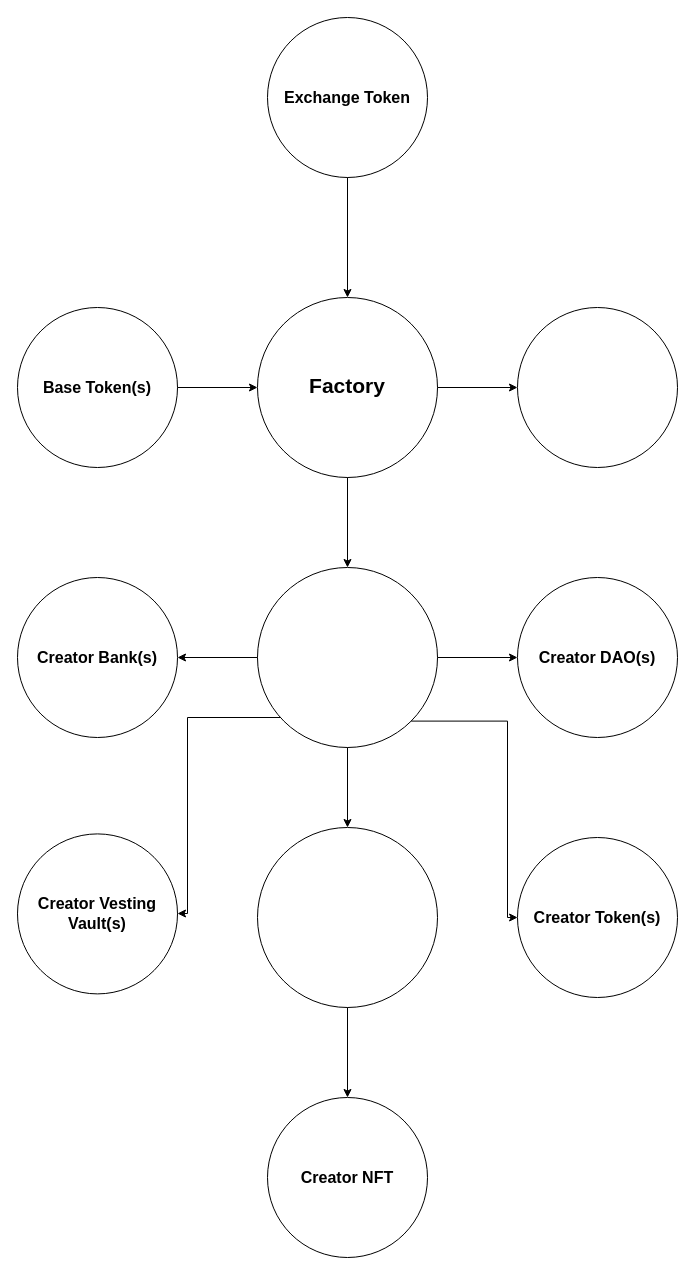
Image size: 695x1275. Some labels were removed from this diagram. Each missing label, with the centre of its shape:
"Creator Factory" belongs at (347,657).
"Creator Pair" belongs at (597,387).
"Creator Vault (s)" belongs at (347,917).
